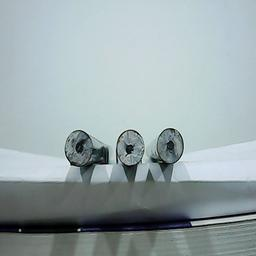pen: (64, 129, 92, 166), (115, 128, 143, 165), (156, 126, 184, 163)
